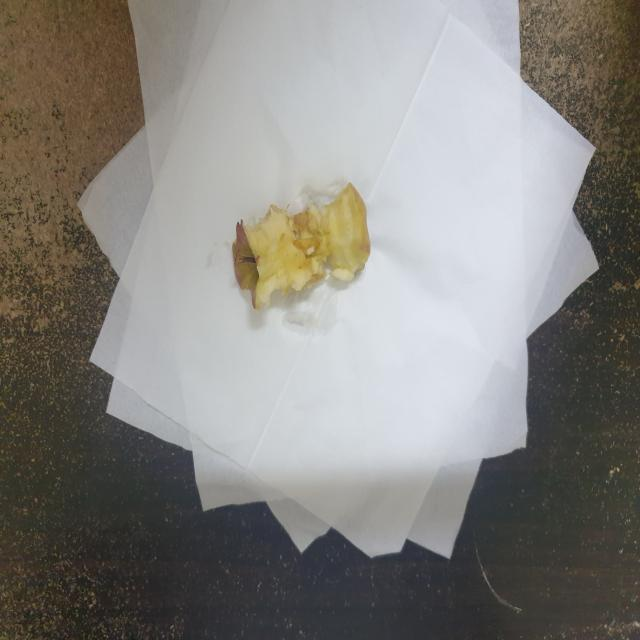apple: (220, 181, 384, 317)
